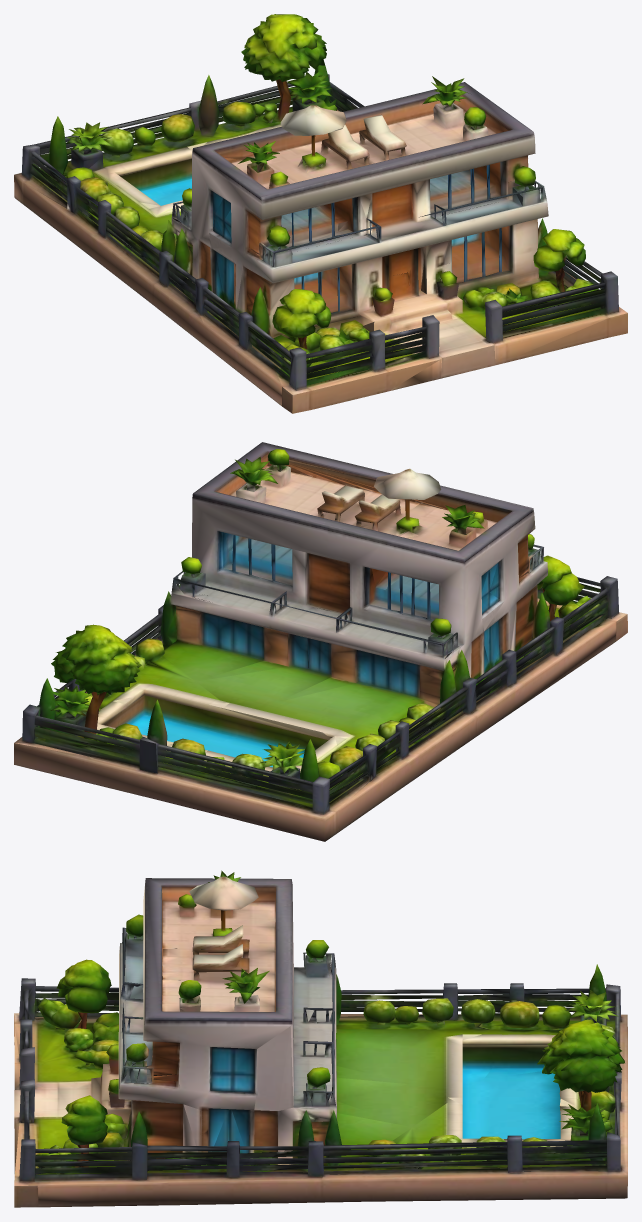
Rendered from house-villa.glb.
3 renders of one model, top to bottom at view 1: azimuth 30°, elevation 25°; view 2: azimuth 150°, elevation 25°; view 3: azimuth 270°, elevation 25°, orthographic. The views are drawn at different scales.
Visible parts, largest first — view 1: low; view 2: low; view 3: low.
Boxes of the visible parts, <box> form: low: <box>14,14,627,413</box>; low: <box>14,442,627,841</box>; low: <box>14,870,627,1207</box>.
Size of the model in its own units: 0.6519 by 0.3862 by 0.9781.
1 material, 1 textured.
